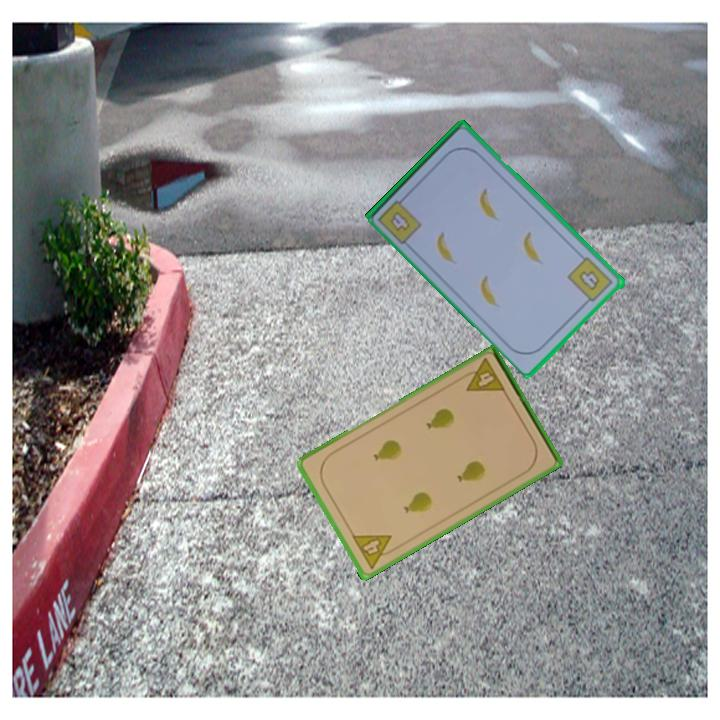4b: (564, 253, 616, 308), (387, 207, 413, 234)
4p: (348, 531, 400, 572), (457, 354, 508, 395)
